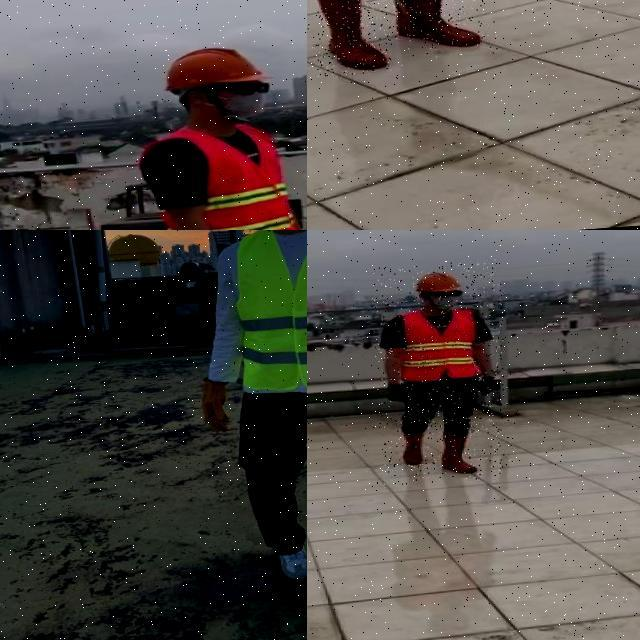boots: (311, 0, 393, 76), (390, 0, 485, 51), (438, 430, 483, 474), (277, 545, 307, 587), (399, 429, 426, 467)
helmet: (158, 41, 264, 89), (412, 268, 464, 297)
vest: (134, 122, 300, 230), (231, 230, 307, 395), (398, 306, 483, 381)
